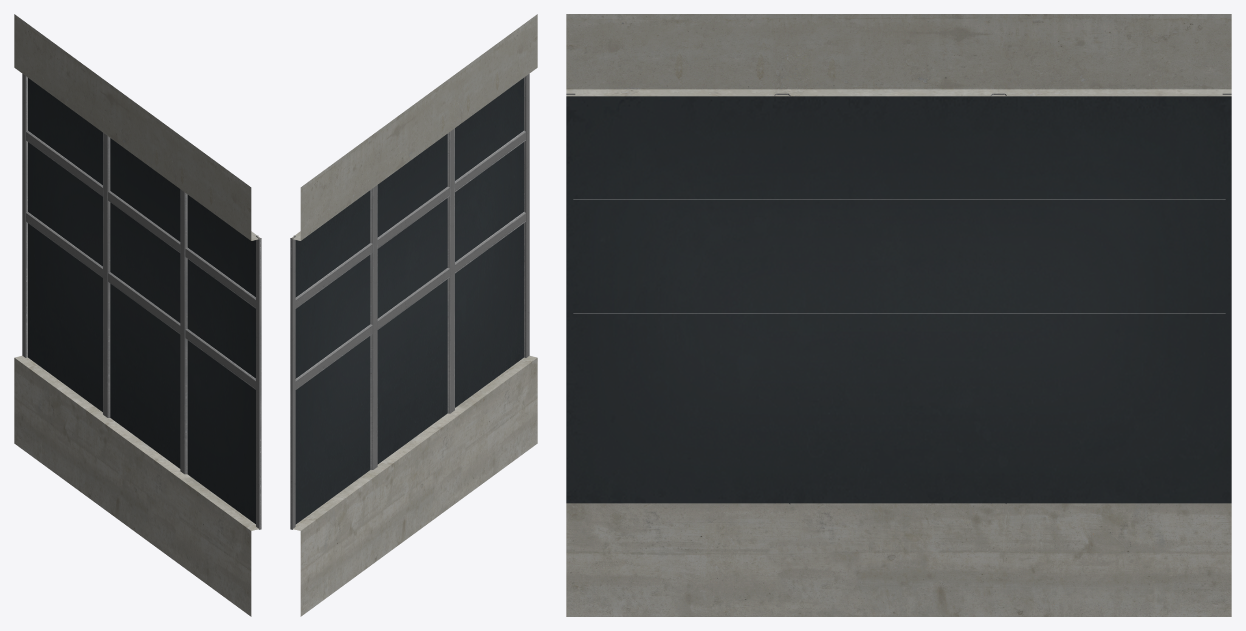
Rendered from HH_Hospital_Showcase_4m_02.fbx.
The picture shows the model from 3 angles, left to right: view 1: azimuth 30°, elevation 25°; view 2: azimuth 150°, elevation 25°; view 3: azimuth 270°, elevation 25°; orthographic projection. The views are drawn at different scales.
Visible parts, largest first — view 1: HH_Hospital_Showcase_4m_02; view 2: HH_Hospital_Showcase_4m_02; view 3: HH_Hospital_Showcase_4m_02.
Part boxes in pixels (<box>): HH_Hospital_Showcase_4m_02: <box>14,14,261,616</box>; HH_Hospital_Showcase_4m_02: <box>290,14,537,616</box>; HH_Hospital_Showcase_4m_02: <box>566,14,1231,616</box>.
Bounding box in the file's own units: 10.27 × 400 × 400.
